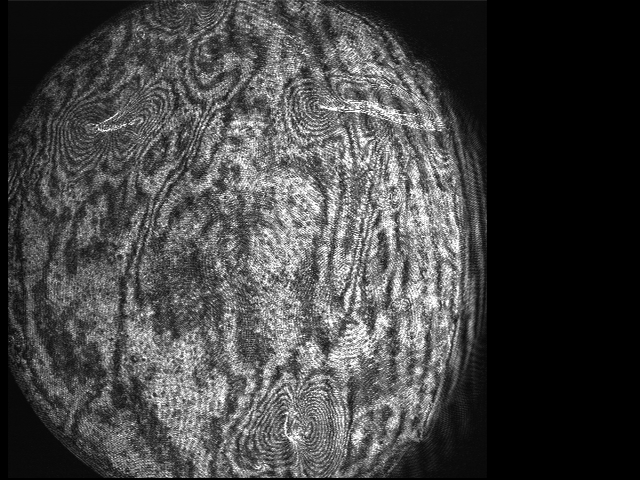plume: (242, 376, 353, 469), (63, 88, 173, 157), (138, 1, 232, 38)
